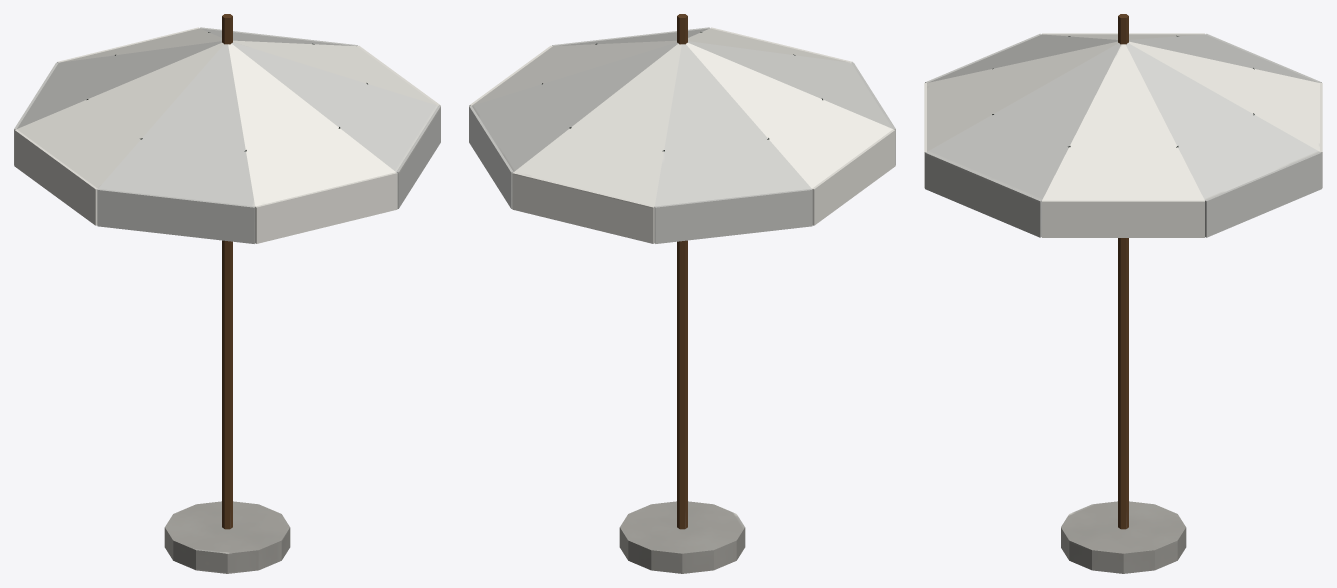
The model's file is slunecnik_0f12a3e3.glb.
The picture shows the model from 3 angles, left to right: view 1: azimuth 30°, elevation 25°; view 2: azimuth 150°, elevation 25°; view 3: azimuth 270°, elevation 25°; orthographic projection.
Visible parts, largest first — view 1: dum; view 2: dum; view 3: dum.
Boxes of the visible parts, <box> form: dum: <box>14,14,440,573</box>; dum: <box>469,14,895,573</box>; dum: <box>924,14,1322,573</box>.
Size of the model in its own units: 1.77 by 2.61 by 1.77.
Materials: 1 (1 with a texture image).
